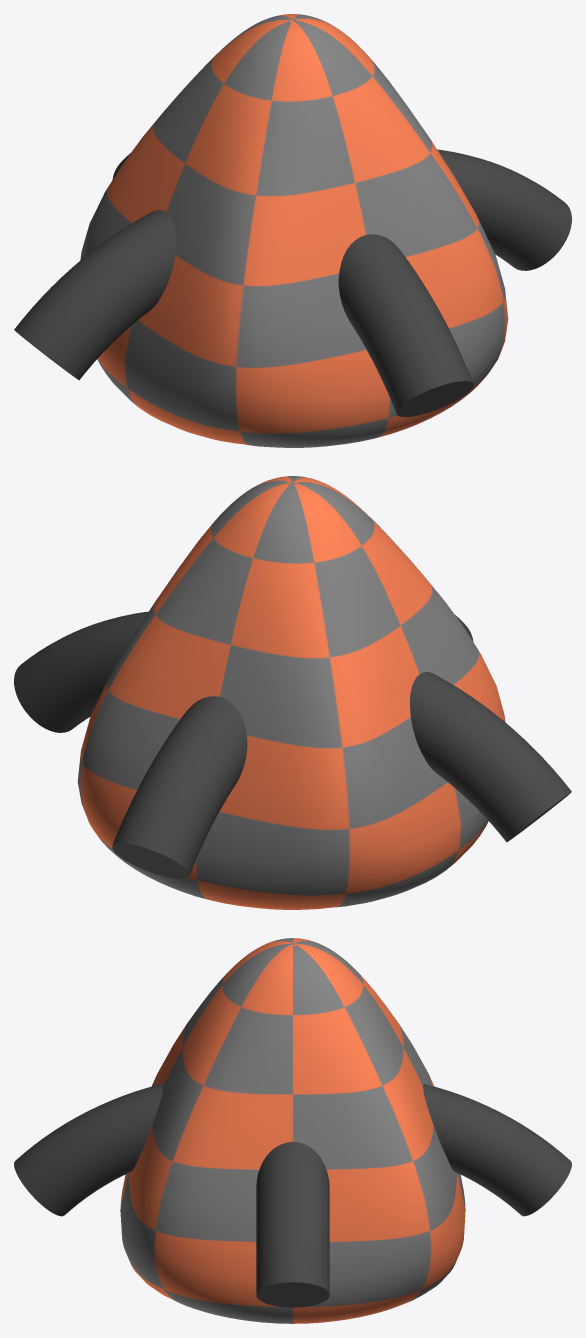
File: Body(Pyramidal)+Colour(More_Orange)+Pattern(Checkered)+Arm_Angle(Bent_Down).fbx
The picture shows the model from 3 angles, top to bottom: view 1: azimuth 30°, elevation 25°; view 2: azimuth 150°, elevation 25°; view 3: azimuth 270°, elevation 25°; orthographic projection. The views are drawn at different scales.
Visible parts, largest first — view 1: Body(Pyramidal)+Colour(More_Orange)+Pattern(Checkered)+Arm_A (×4); view 2: Body(Pyramidal)+Colour(More_Orange)+Pattern(Checkered)+Arm_A (×4); view 3: Body(Pyramidal)+Colour(More_Orange)+Pattern(Checkered)+Arm_A (×4).
Part boxes in pixels (bbox=[...]): Body(Pyramidal)+Colour(More_Orange)+Pattern(Checkered)+Arm_A (×4): bbox=[14, 14, 571, 447]; Body(Pyramidal)+Colour(More_Orange)+Pattern(Checkered)+Arm_A (×4): bbox=[14, 476, 571, 909]; Body(Pyramidal)+Colour(More_Orange)+Pattern(Checkered)+Arm_A (×4): bbox=[14, 938, 571, 1323].
Size of the model in its own units: 60.67 by 40 by 60.67.
Materials: 2 (2 with a texture image).
